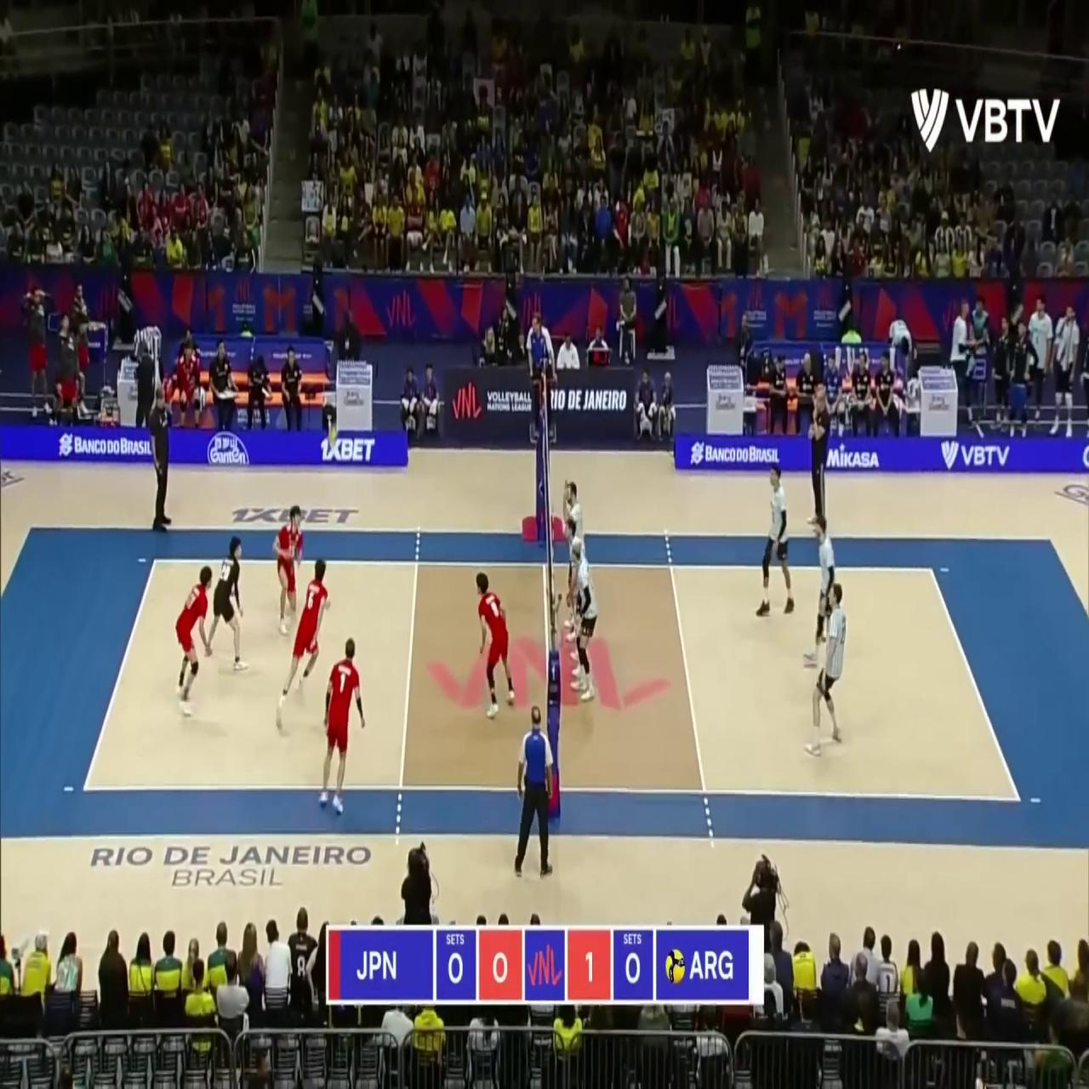ball: (329, 429, 338, 448)
